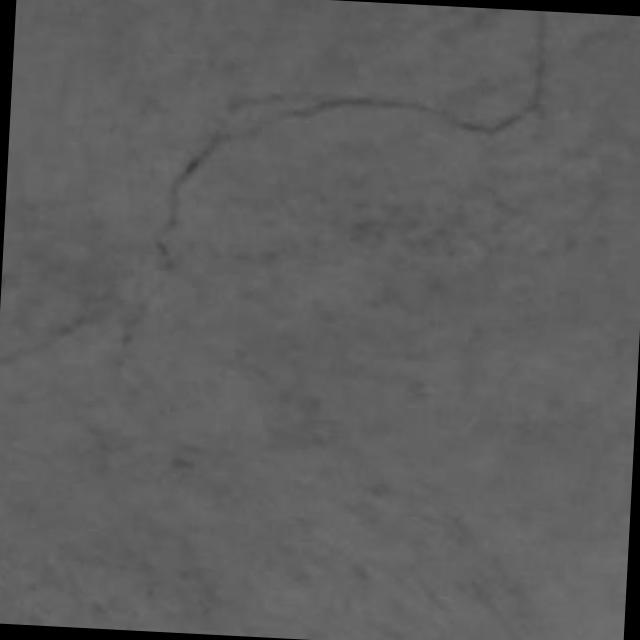crack: (155, 11, 546, 271), (0, 313, 92, 367)
